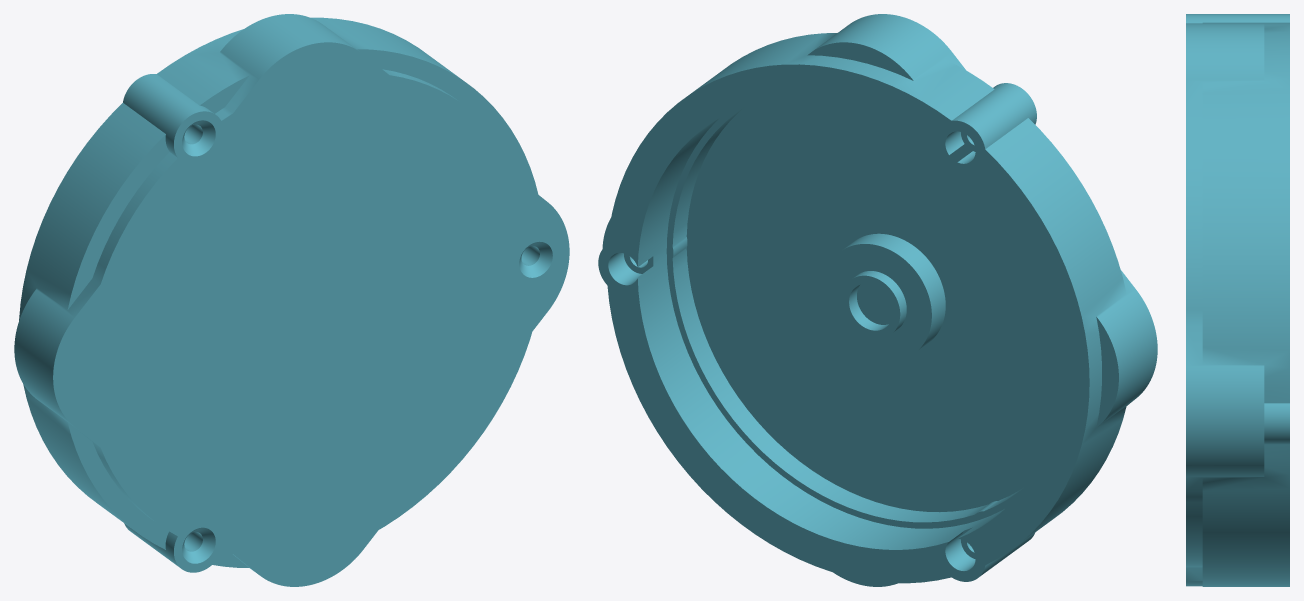
Rendered from Cap_rounded_square.glb.
3 renders of one model, left to right at view 1: azimuth 30°, elevation 25°; view 2: azimuth 150°, elevation 25°; view 3: azimuth 270°, elevation 25°, orthographic.
Visible parts, largest first — view 1: Cap_rounded_square_0; view 2: Cap_rounded_square_0; view 3: Cap_rounded_square_0.
Boxes of the visible parts, left/top/right/bottom form: Cap_rounded_square_0: left=14, top=14, right=569, bottom=586; Cap_rounded_square_0: left=598, top=14, right=1157, bottom=586; Cap_rounded_square_0: left=1186, top=14, right=1289, bottom=586.
Size of the model in its own units: 61.6 by 61.6 by 10.6.
